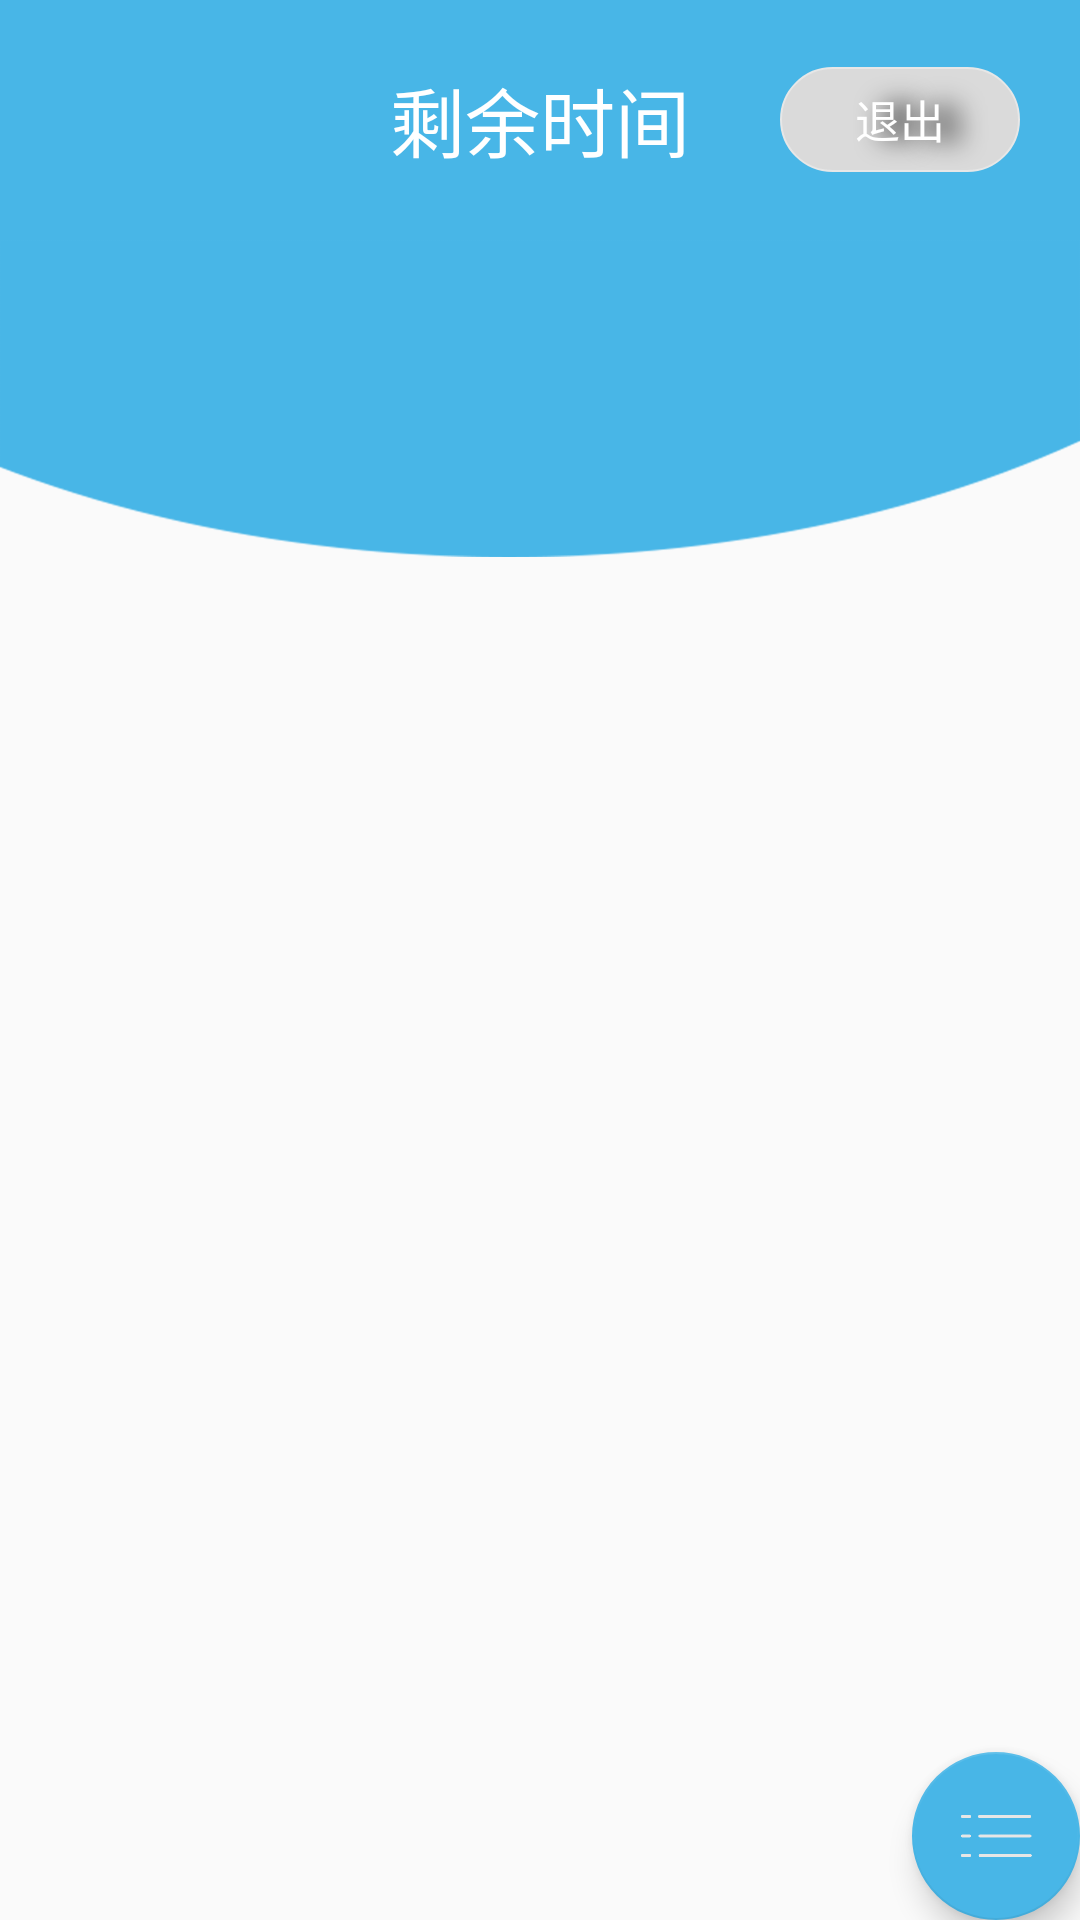

Screen size 1080 x 1920. Icon name, then its center in pixels as (x,y):
category: (996,1836)
